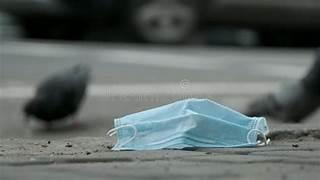Mask: (108, 99, 268, 149)
